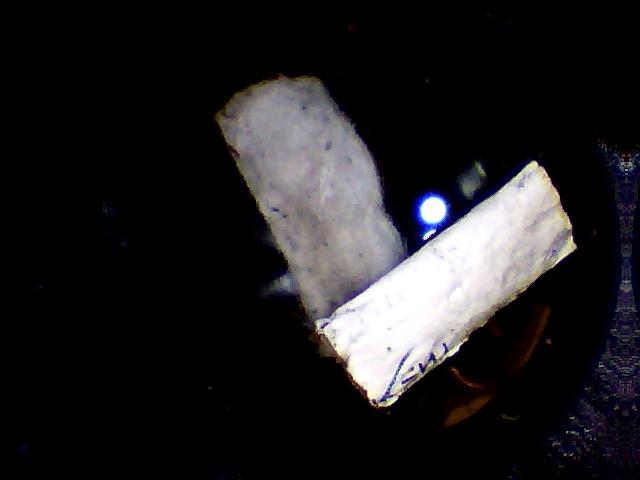megot: (305, 156, 593, 412), (191, 51, 422, 336)
